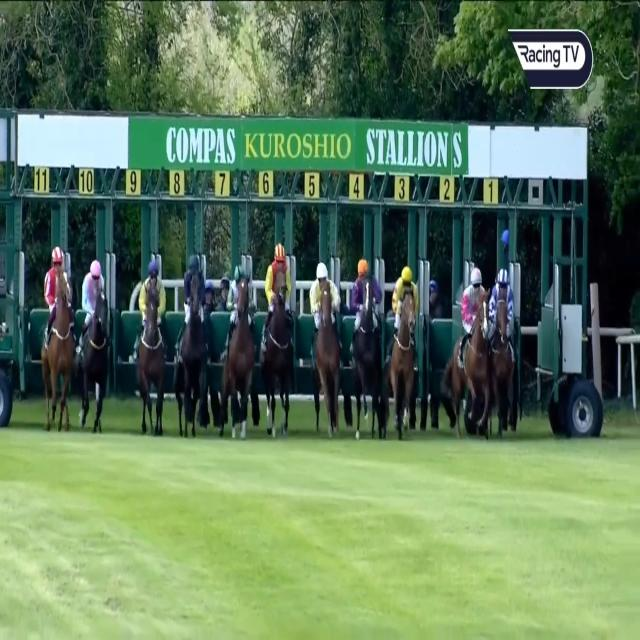horses-racing: (133, 258, 170, 438), (347, 254, 384, 432), (41, 240, 75, 428), (309, 256, 344, 433), (387, 257, 422, 434), (74, 259, 108, 440), (262, 241, 292, 445), (177, 248, 209, 428), (223, 265, 254, 432), (459, 260, 488, 430), (488, 267, 516, 427)
